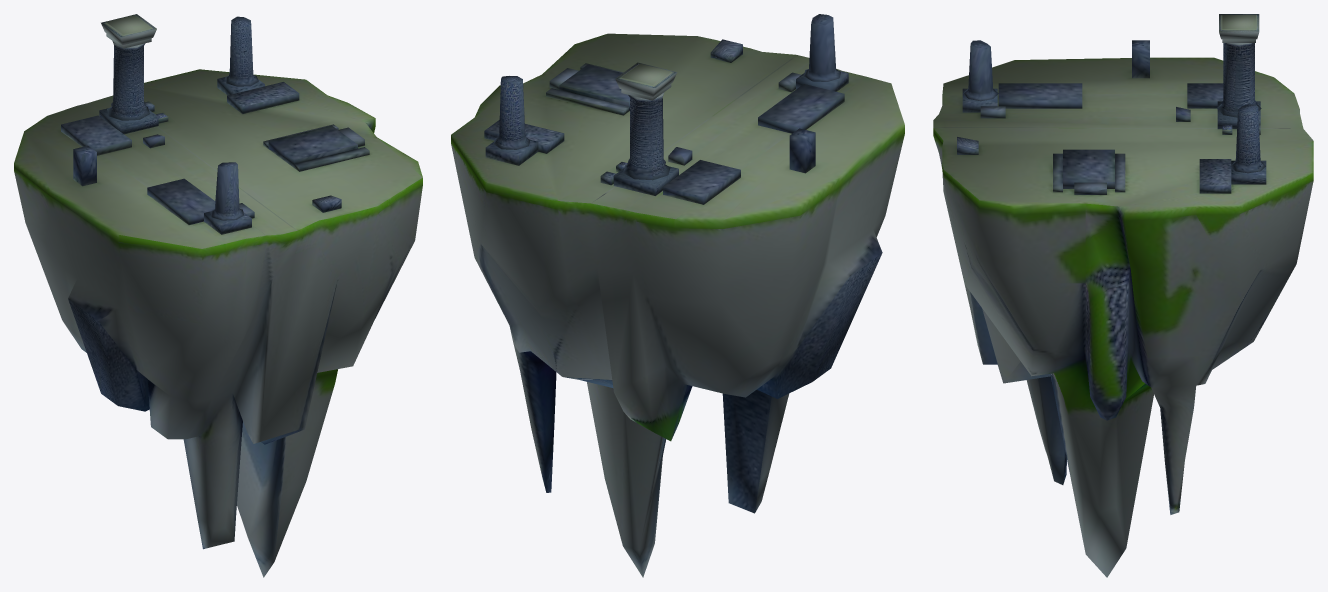
Rendered from tripo_convert_894044b2-88a6-4095-8fd7-f97e828324ab.fbx.
3 views of the same model, side by side, from view 1: azimuth 30°, elevation 25°; view 2: azimuth 150°, elevation 25°; view 3: azimuth 270°, elevation 25° (orthographic). The views are drawn at different scales.
Visible parts, largest first — view 1: tripo_node_894044b2; view 2: tripo_node_894044b2; view 3: tripo_node_894044b2.
Part boxes in pixels (left/top/right/bottom): tripo_node_894044b2: left=14, top=14, right=422, bottom=577; tripo_node_894044b2: left=451, top=14, right=904, bottom=577; tripo_node_894044b2: left=933, top=14, right=1313, bottom=577.
Size of the model in its own units: 0.6348 by 0.998 by 0.6582.
Materials: 1 (1 with a texture image).
